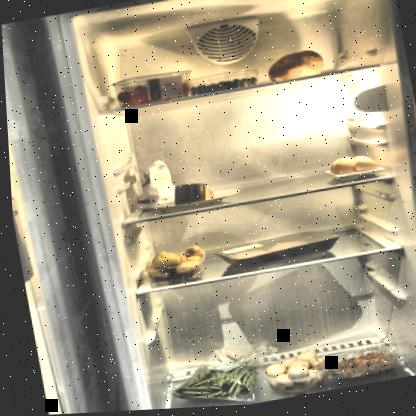blueberries: (187, 75, 258, 98)
cheese: (168, 180, 217, 209)
chicken: (219, 236, 312, 274)
eggs: (322, 154, 380, 183)
green_beans: (157, 350, 266, 409)
mushrooms: (255, 348, 330, 398)
potato: (134, 243, 206, 287)
shrimp: (321, 350, 394, 388)
strawberries: (112, 74, 190, 111)
sweet_potato: (264, 49, 326, 87)
